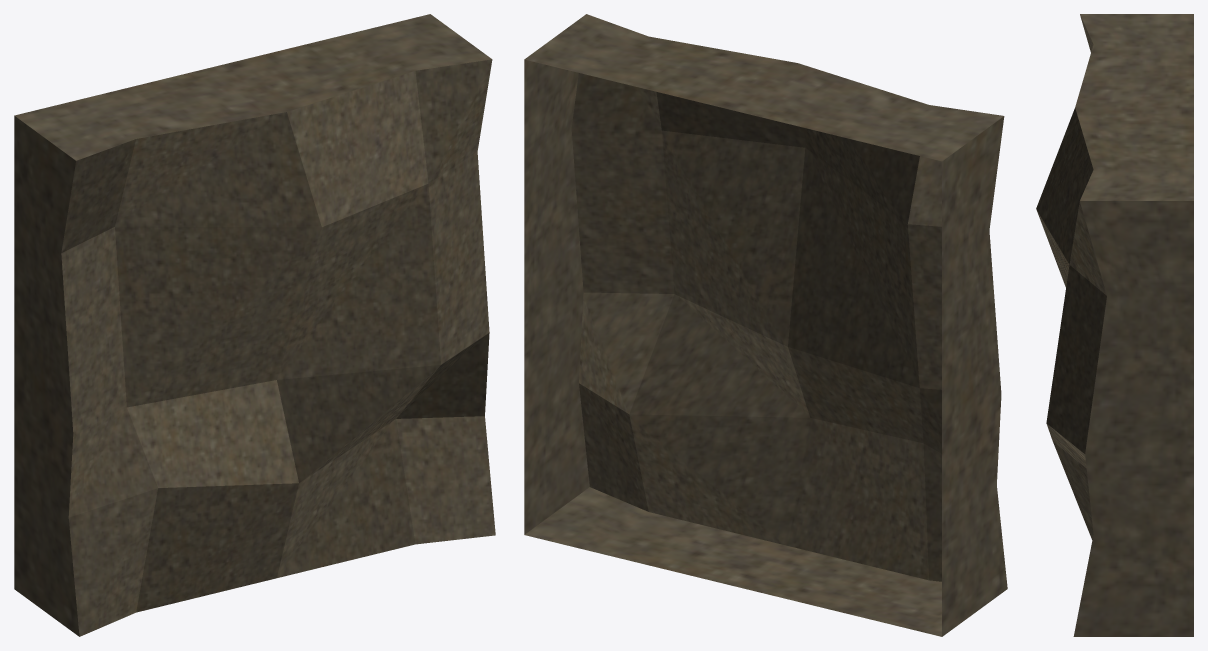
File: WallBumpy.fbx
3 renders of one model, left to right at view 1: azimuth 30°, elevation 25°; view 2: azimuth 150°, elevation 25°; view 3: azimuth 270°, elevation 25°, orthographic. The views are drawn at different scales.
Visible parts, largest first — view 1: WallBumps; view 2: WallBumps; view 3: WallBumps.
Boxes of the visible parts, box(x1,y1,x2,y2) form: WallBumps: box(14, 14, 495, 636); WallBumps: box(524, 14, 1007, 636); WallBumps: box(1036, 14, 1193, 636).
Bounding box in the file's own units: 882 × 959 × 315.
